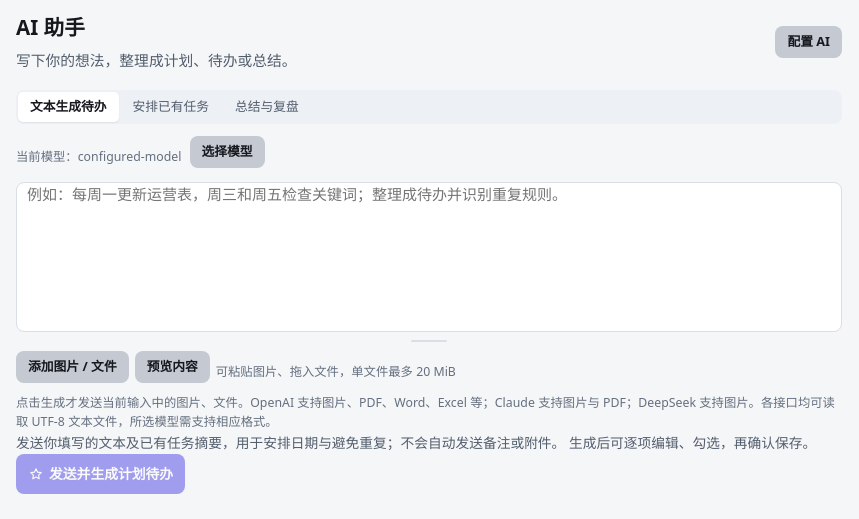
Test case: AI 助手完整交互（模拟模型，真实 React 状态） › 保存配置通知立即刷新旧的未配置状态，换模型保留密钥并用于生成
Click the button "选择模型": (227, 152) [190, 136, 264, 168]
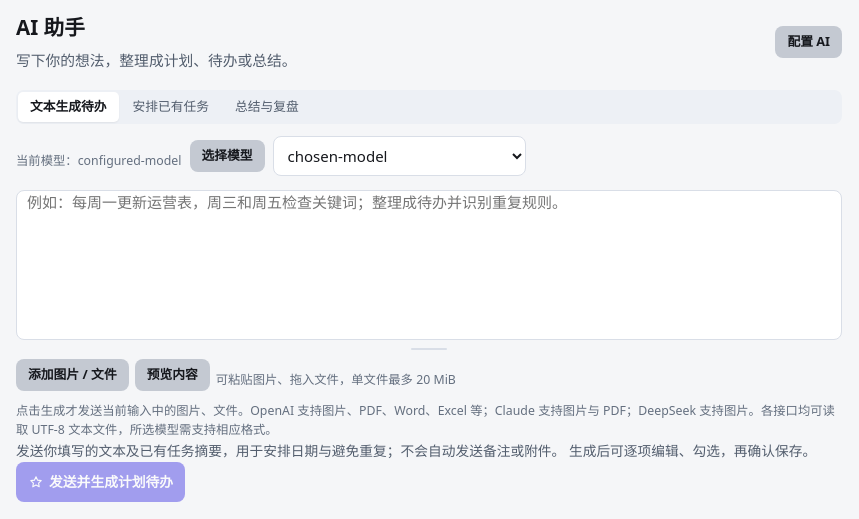
Select "chosen-model" in the dropdown named "助手使用的模型": (399, 156) [272, 136, 526, 176]
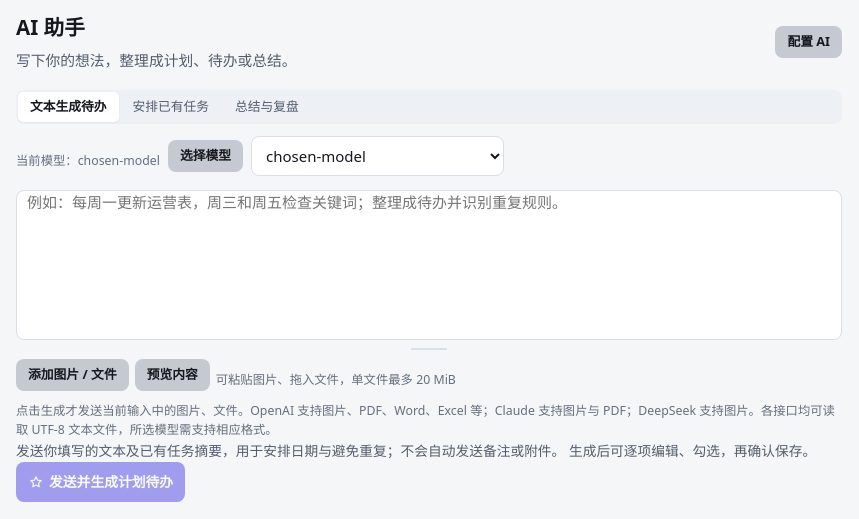
Expected: the text "chosen-model" is shown, [78, 152, 160, 169]
